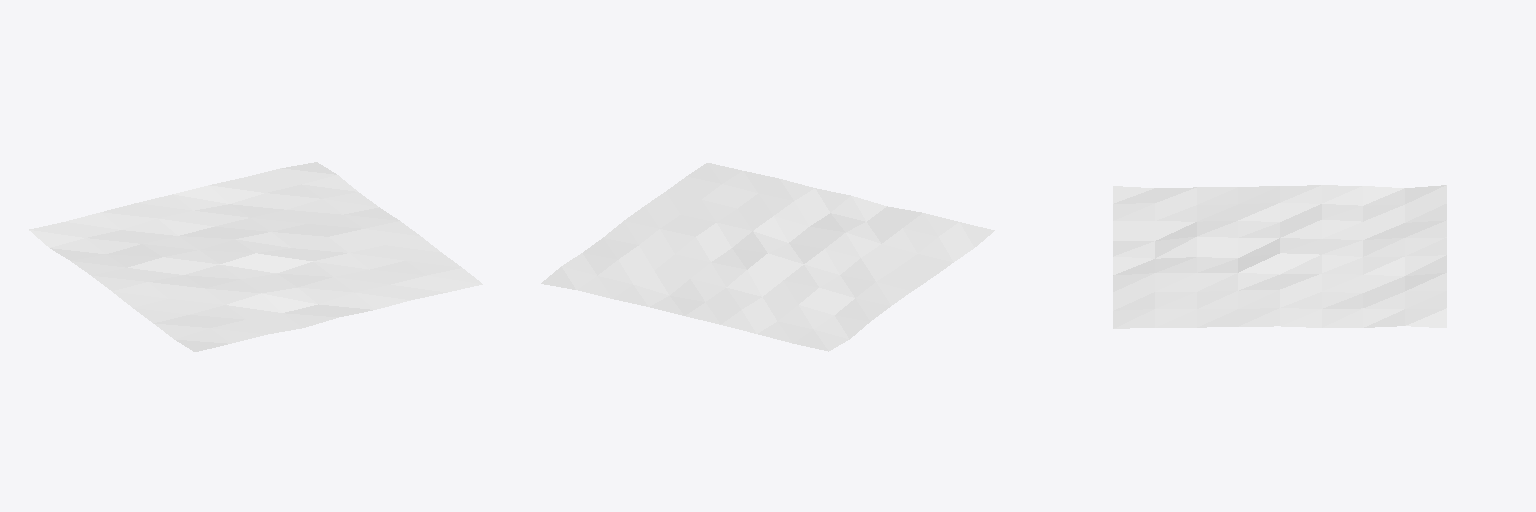
Rendered from Rasen.obj.
The picture shows the model from 3 angles: view 1: azimuth 30°, elevation 25°; view 2: azimuth 150°, elevation 25°; view 3: azimuth 270°, elevation 25°; orthographic projection.
Parts seen in each view (by area): view 1: Rasen_Cube.007; view 2: Rasen_Cube.007; view 3: Rasen_Cube.007.
Boxes of the visible parts, box(x1,y1,x2,y2) form: Rasen_Cube.007: box(29, 162, 482, 351); Rasen_Cube.007: box(541, 163, 994, 351); Rasen_Cube.007: box(1113, 185, 1446, 328).
Bounding box in the file's own units: 18.15 × 0.3275 × 18.15.